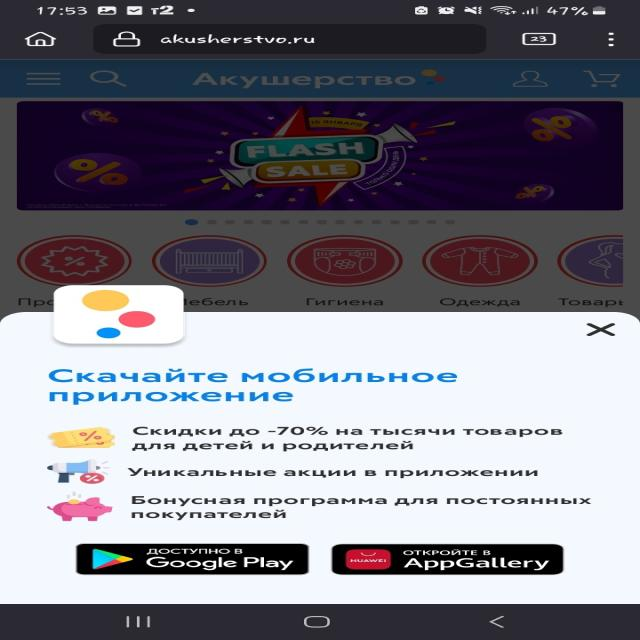button: (75, 544, 309, 575), (336, 545, 566, 574), (582, 321, 622, 338)
site: (0, 311, 640, 602)
